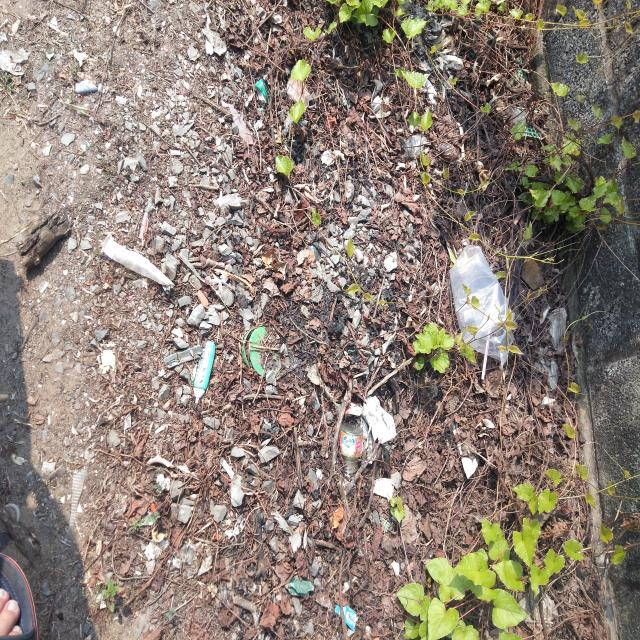litter: (448, 246, 518, 367), (102, 233, 175, 291), (344, 394, 395, 464), (60, 449, 93, 546), (242, 327, 282, 378), (482, 284, 498, 379), (194, 340, 215, 404), (339, 423, 364, 473), (284, 576, 314, 597), (335, 604, 357, 631), (255, 79, 270, 106), (139, 211, 150, 240), (145, 198, 156, 212), (87, 140, 91, 147)
